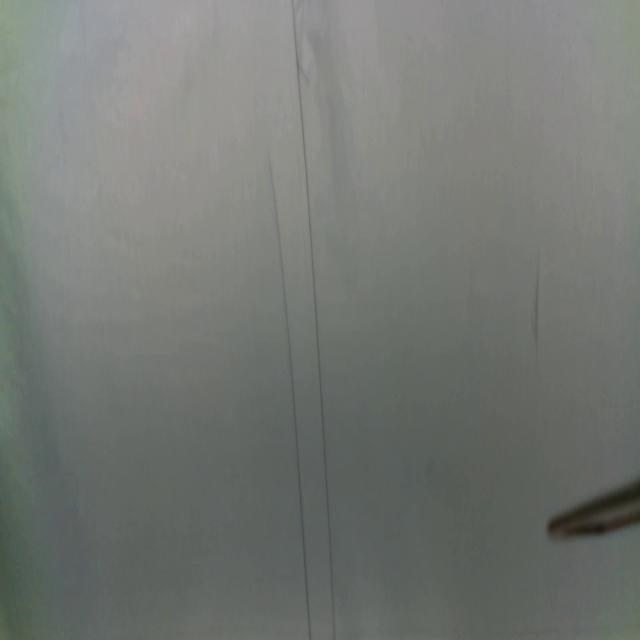crease: (290, 0, 336, 640), (268, 159, 312, 638), (530, 264, 542, 359)
